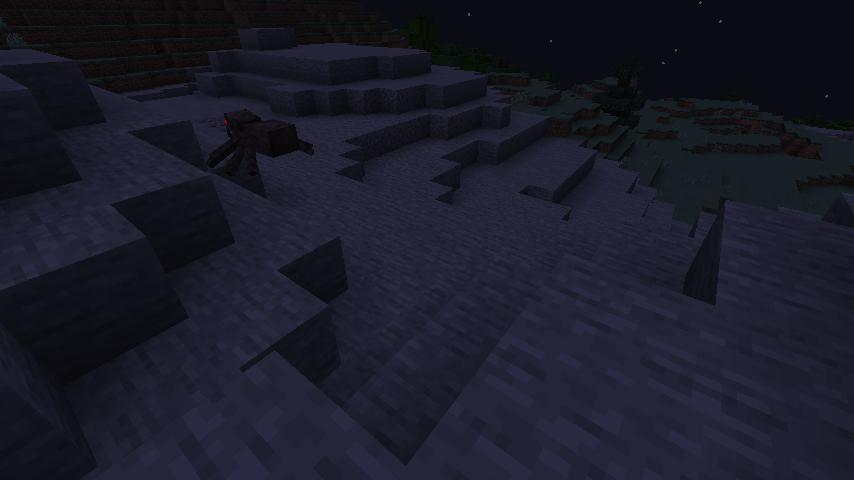spider: (208, 108, 316, 177)
